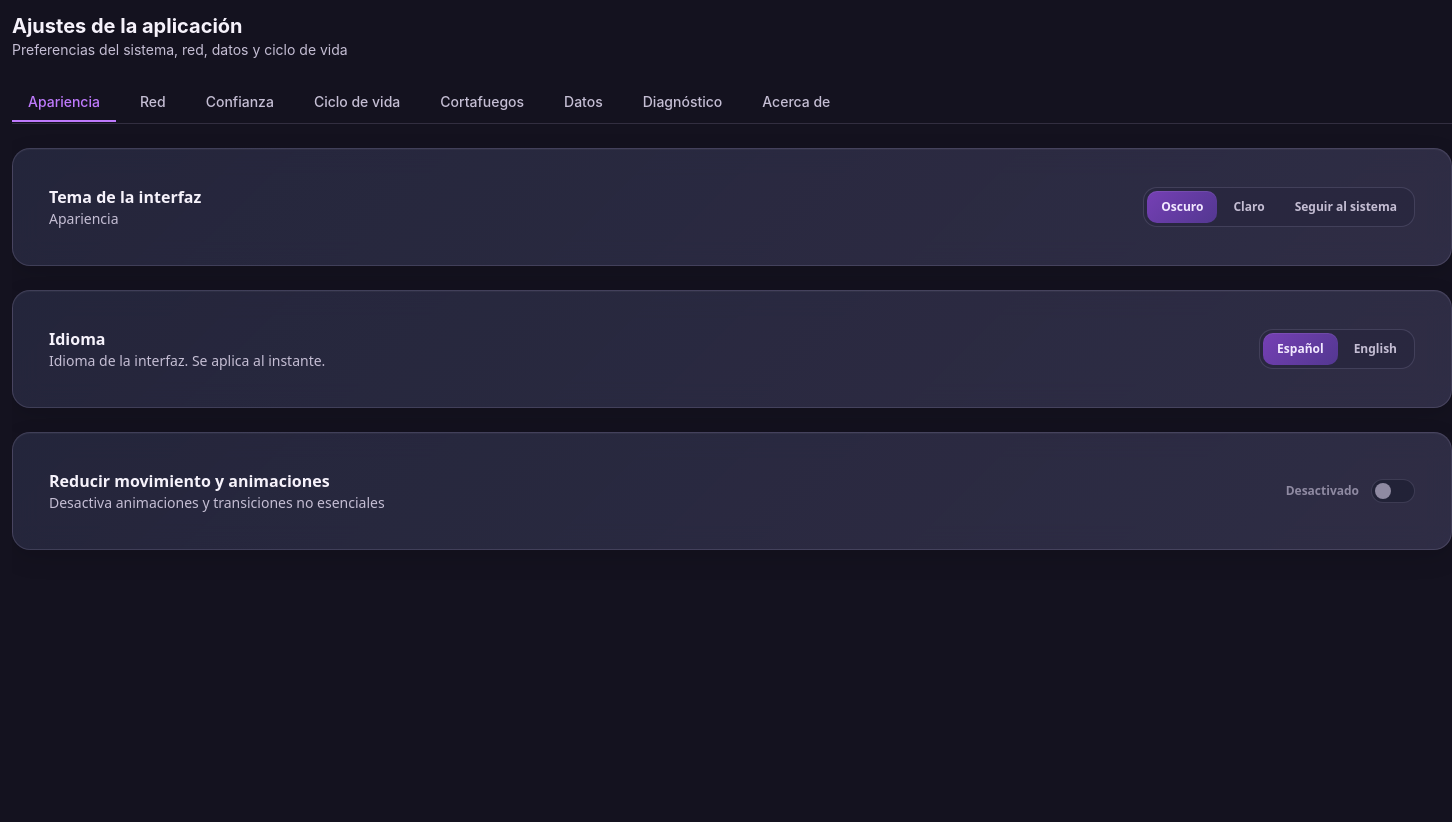
Test: Ajustes → Red: cambiar el puerto de control › si no hay regla, el aviso lo dice; «Recrear regla» la crea y el aviso desaparece
Click the tab "Red" at (153, 103), box [124,84,182,122]
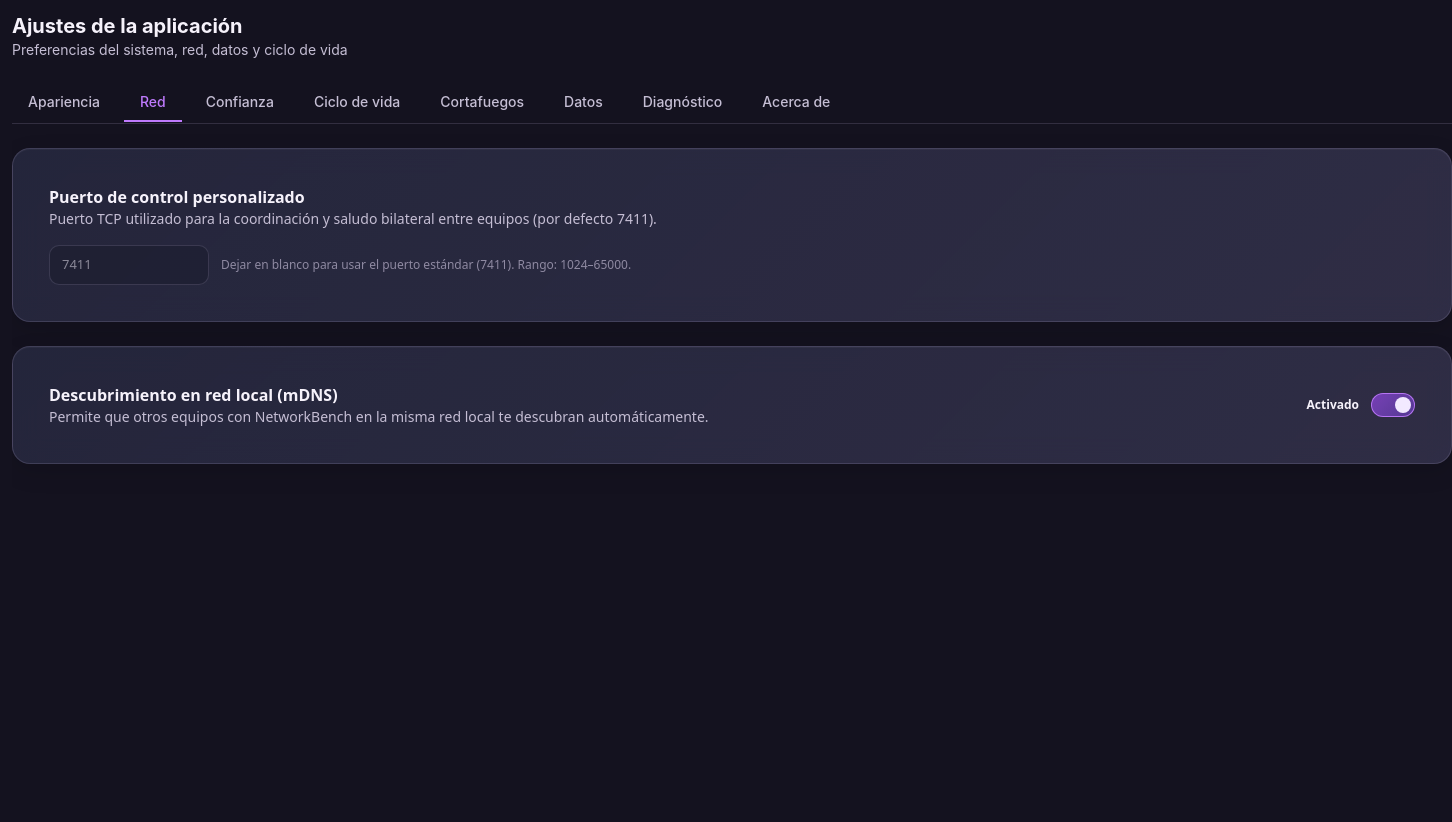
Result: the number field with placeholder "7411" is enabled
Type "9000" into the number field with placeholder "7411" at (129, 265), box [49,245,209,284]
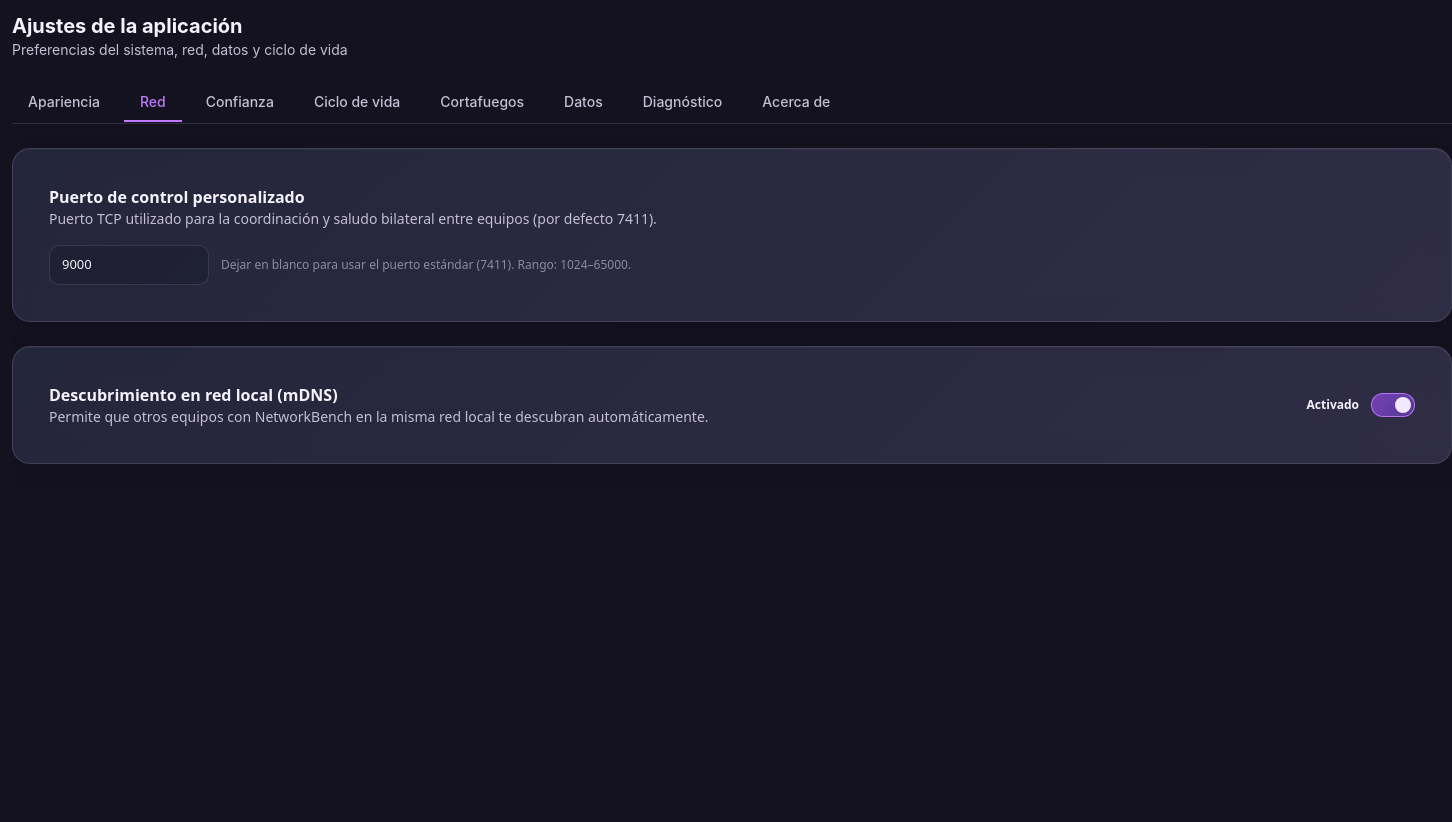
Leave the number field with placeholder "7411", box [49,245,209,284]
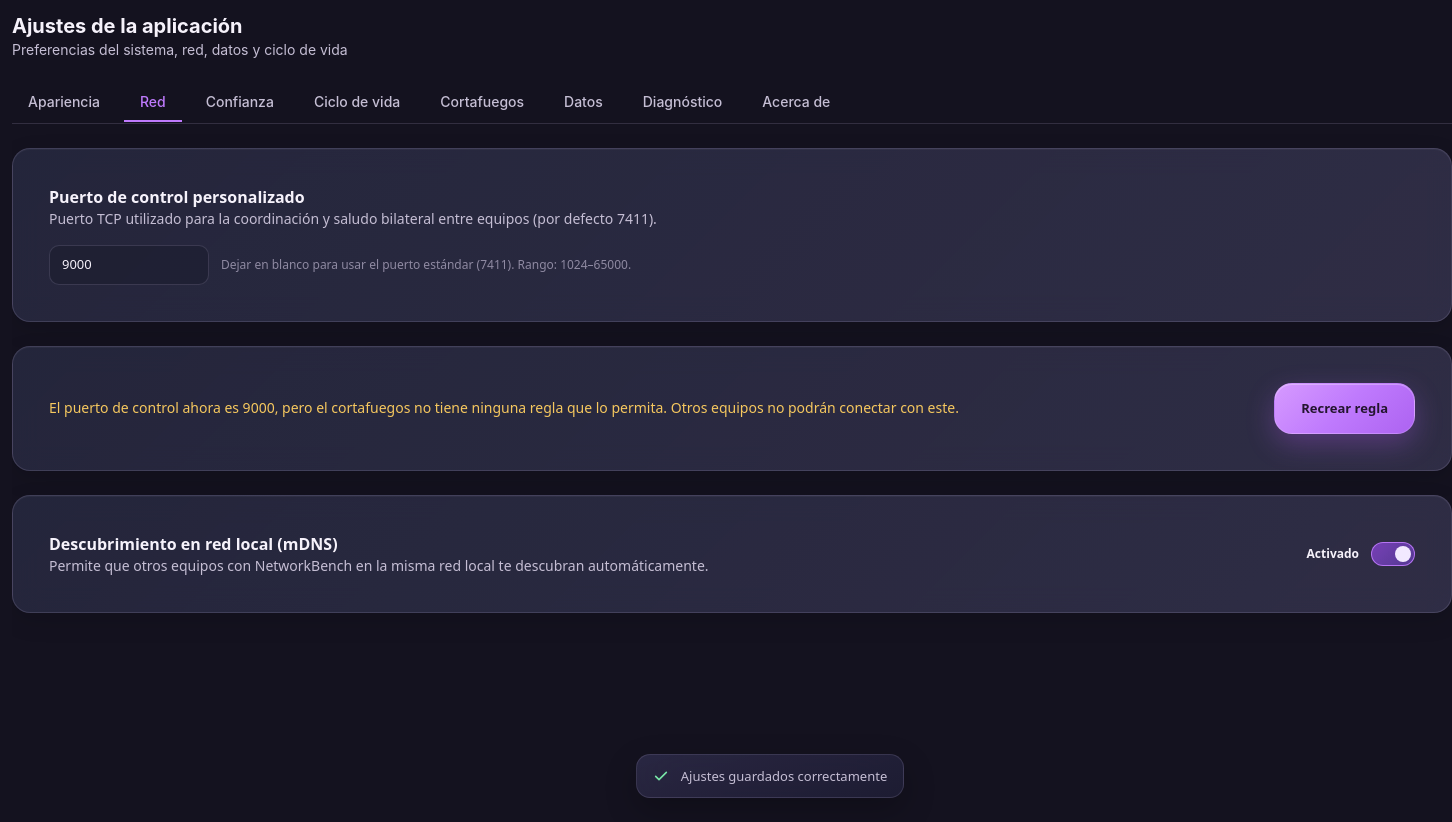
Result: the message with test id "fw-port-notice" shows "no tiene ninguna regla que lo permita" at [49,398,959,417]
Click the button with test id "fw-recreate" at (1345, 408), box [1274,382,1415,434]
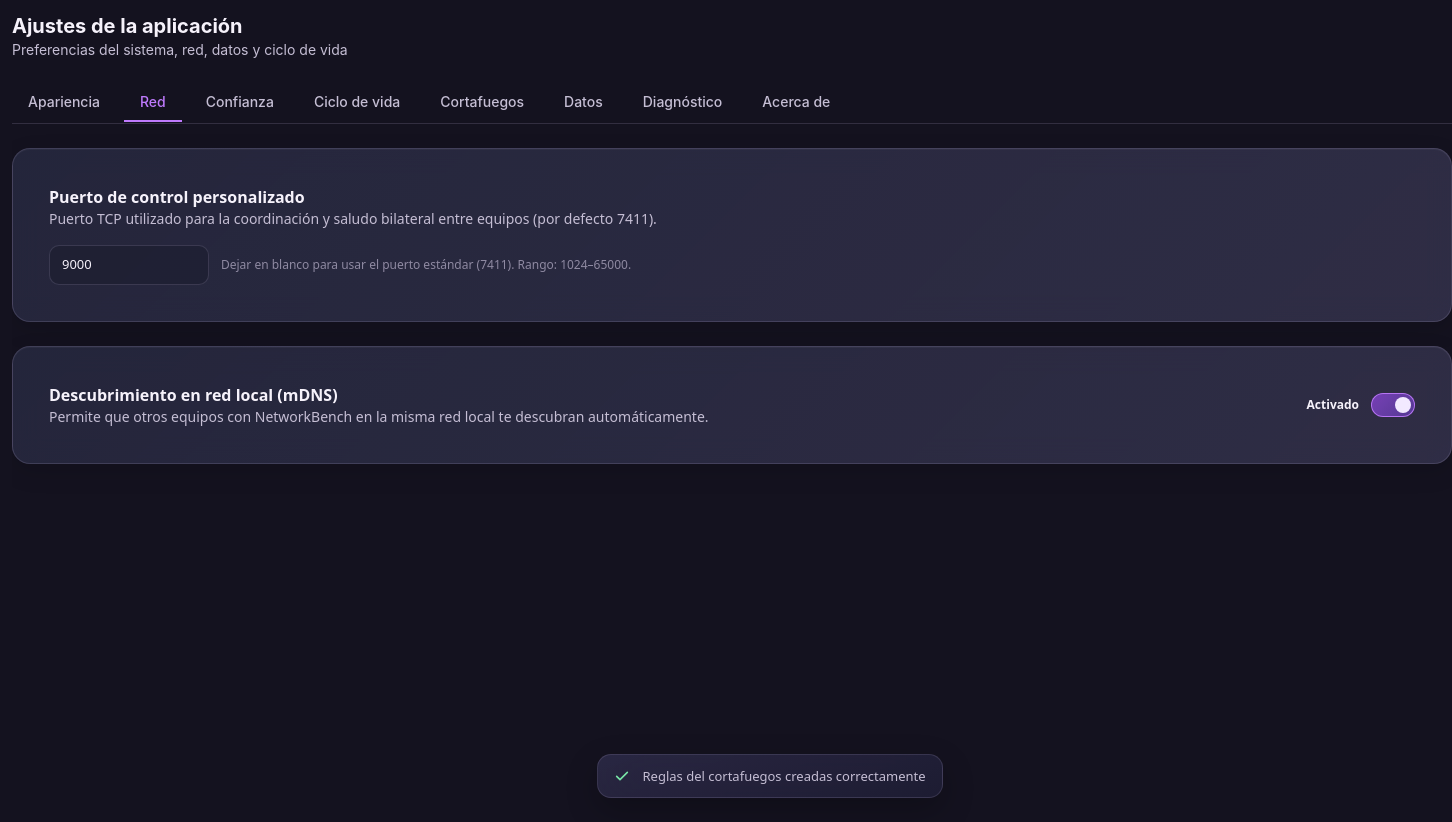
Result: the message with test id "fw-port-notice" is gone
